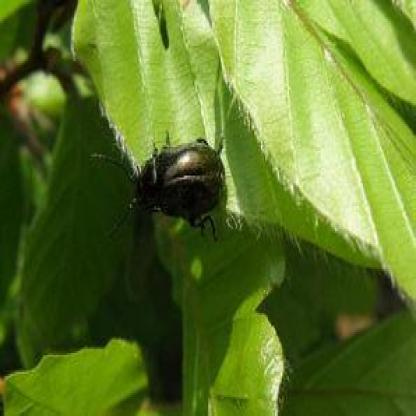beetle: (123, 127, 238, 240)
